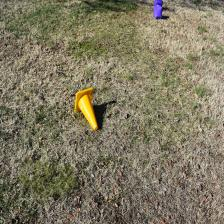cone: (74, 88, 98, 132)
cube: (153, 5, 163, 19), (154, 0, 162, 6)
